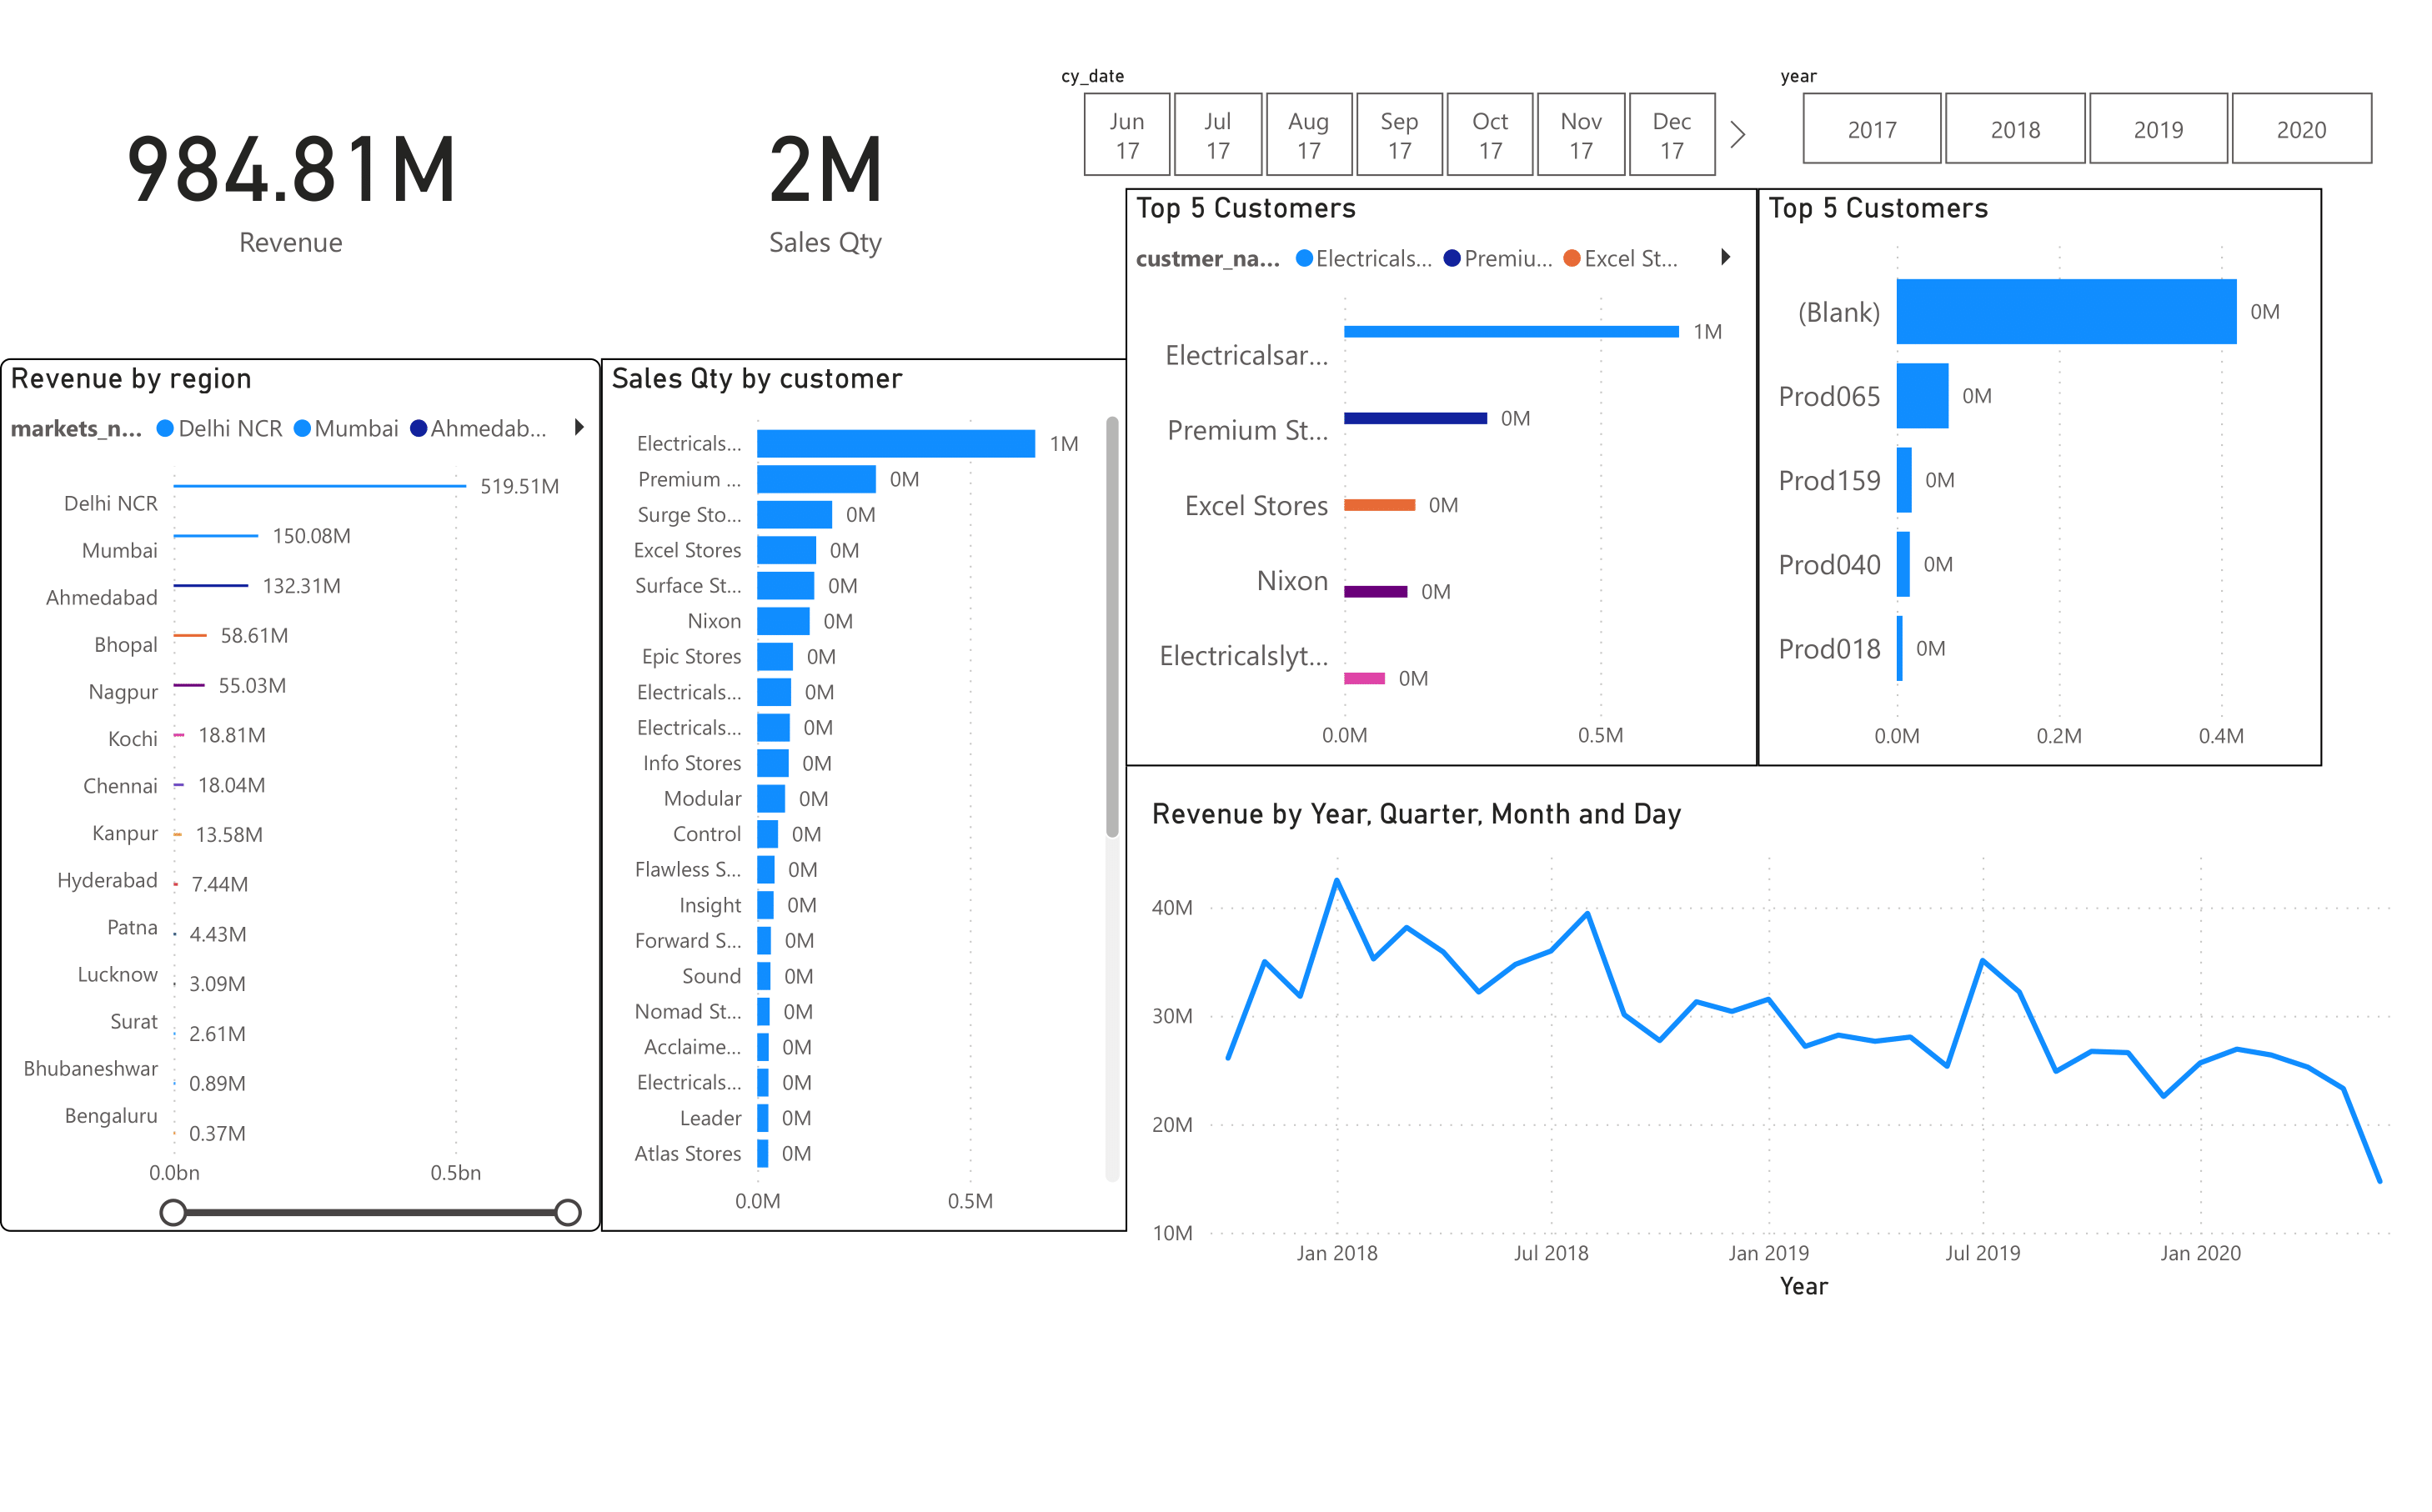

The page's visual inventory and layout, read from the dashboard file:
{"tool":"powerbi","page":{"name":"Page 1","canvas":[1400,850],"ordinal":0},"visuals":[{"type":"card","fields":{"Values":["BaseMeasures.Revenue"]},"box":[0,0,335,181.2],"z":0},{"type":"card","fields":{"Values":["BaseMeasures.Sales Qty"]},"box":[346.2,0,258.8,181.2],"z":1000},{"type":"clusteredBarChart","title":"Revenue by region","fields":{"Y":["BaseMeasures.Revenue"],"Series":["sales markets.markets_name"],"Category":["sales markets.markets_name"]},"box":[0,196.2,346.2,502.5],"z":2000},{"type":"clusteredBarChart","title":"Sales Qty by customer","fields":{"Y":["BaseMeasures.Sales Qty"],"Category":["sales customers.custmer_name"]},"box":[346.2,196.2,302.5,502.5],"z":3000},{"type":"slicer","fields":{"Values":["sales date.year"]},"box":[1012.5,22.5,377.5,68.8],"z":4000},{"type":"slicer","fields":{"Values":["sales date.cy_date"]},"box":[598.8,22.5,413.8,76.2],"z":5000},{"type":"clusteredBarChart","title":"Top 5 Customers","fields":{"Y":["BaseMeasures.Sales Qty"],"Category":["sales customers.custmer_name"],"Series":["sales customers.custmer_name"]},"box":[648.8,98.8,363.8,332.5],"z":6000},{"type":"clusteredBarChart","title":"Top 5 Customers","fields":{"Y":["BaseMeasures.Sales Qty"],"Category":["sales products.product_code"]},"box":[1012.5,98.8,325,332.5],"z":7000},{"type":"lineChart","fields":{"Y":["BaseMeasures.Revenue"],"Category":["sales date.cy_date.Variation.Date Hierarchy.Year","sales date.cy_date.Variation.Date Hierarchy.Quarter","sales date.cy_date.Variation.Date Hierarchy.Month","sales date.cy_date.Variation.Date Hierarchy.Day"]},"box":[658.8,447.5,741.2,295],"z":8000}]}

Visuals, with their boxes in screenshot pixels (x1, y1, x2, y2), scaled from the page's 1400x850 canvas onto the 2432x1512 screenshot:
card - BaseMeasures.Revenue: [0,0,582,323]
card - BaseMeasures.Sales Qty: [601,0,1051,323]
"Revenue by region" clusteredBarChart: [0,349,601,1243]
"Sales Qty by customer" clusteredBarChart: [601,349,1127,1243]
slicer - sales date.year: [1759,40,2414,163]
slicer - sales date.cy_date: [1040,40,1759,176]
"Top 5 Customers" clusteredBarChart: [1127,176,1759,767]
"Top 5 Customers" clusteredBarChart: [1759,176,2324,767]
lineChart - BaseMeasures.Revenue x sales date.cy_date.Variation.Date Hierarchy.Year: [1145,796,2431,1321]
